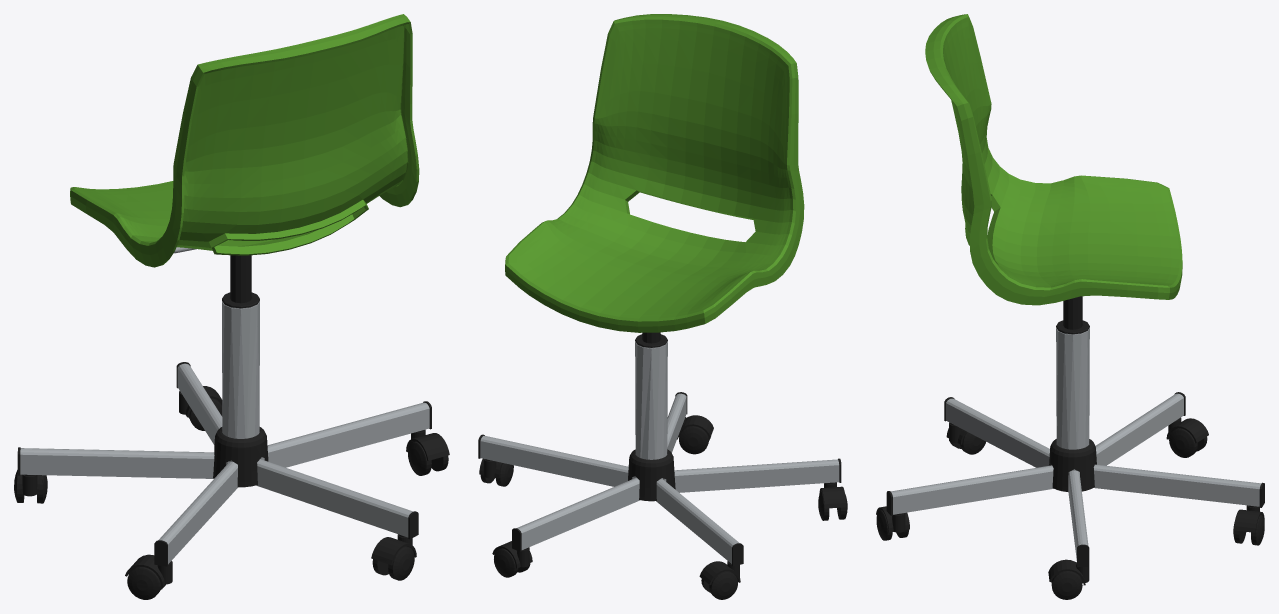
3 renders of one model, left to right at view 1: azimuth 30°, elevation 25°; view 2: azimuth 150°, elevation 25°; view 3: azimuth 270°, elevation 25°, orthographic. The views are drawn at different scales.
Parts seen in each view (by area): view 1: Mesh2 Group2 SNILLE_IKEA1 Model, Mesh8 Group6 SNILLE_IKEA1 Model, Mesh7 Group5 SNILLE_IKEA1 Model, Mesh1 Group1 SNILLE_IKEA1 Model, Mesh3 Group3 SNILLE_IKEA1 Model, Mesh20 ROULETTE4 SNILLE_IKEA1 Model, Mesh12 ROULETTE2 SNILLE_IKEA1 Model, Mesh15 ROULETTE3 SNILLE_IKEA1 Model, Mesh14 ROULETTE2 SNILLE_IKEA1 Model, Mesh18 ROULETTE4 SNILLE_IKEA1 Model, Mesh16 ROULETTE3 SNILLE_IKEA1 Model; view 2: Mesh2 Group2 SNILLE_IKEA1 Model, Mesh8 Group6 SNILLE_IKEA1 Model, Mesh7 Group5 SNILLE_IKEA1 Model, Mesh1 Group1 SNILLE_IKEA1 Model, Mesh13 ROULETTE2 SNILLE_IKEA1 Model, Mesh11 ROULETTE1 SNILLE_IKEA1 Model, Mesh18 ROULETTE4 SNILLE_IKEA1 Model, Mesh9 ROULETTE1 SNILLE_IKEA1 Model, Mesh23 ROULETTE5 SNILLE_IKEA1 Model; view 3: Mesh2 Group2 SNILLE_IKEA1 Model, Mesh8 Group6 SNILLE_IKEA1 Model, Mesh7 Group5 SNILLE_IKEA1 Model, Mesh1 Group1 SNILLE_IKEA1 Model, Mesh3 Group3 SNILLE_IKEA1 Model, Mesh17 ROULETTE3 SNILLE_IKEA1 Model, Mesh10 ROULETTE1 SNILLE_IKEA1 Model, Mesh21 ROULETTE5 SNILLE_IKEA1 Model, Mesh9 ROULETTE1 SNILLE_IKEA1 Model, Mesh15 ROULETTE3 SNILLE_IKEA1 Model.
Part boxes in pixels (box(x1,y1,x2,y2)): Mesh2 Group2 SNILLE_IKEA1 Model: box(70, 14, 419, 267); Mesh8 Group6 SNILLE_IKEA1 Model: box(17, 362, 431, 566); Mesh7 Group5 SNILLE_IKEA1 Model: box(222, 301, 259, 438); Mesh1 Group1 SNILLE_IKEA1 Model: box(213, 427, 268, 487); Mesh3 Group3 SNILLE_IKEA1 Model: box(222, 255, 259, 308); Mesh20 ROULETTE4 SNILLE_IKEA1 Model: box(127, 566, 161, 599); Mesh12 ROULETTE2 SNILLE_IKEA1 Model: box(371, 534, 416, 565); Mesh15 ROULETTE3 SNILLE_IKEA1 Model: box(406, 429, 449, 460); Mesh14 ROULETTE2 SNILLE_IKEA1 Model: box(388, 546, 414, 580); Mesh18 ROULETTE4 SNILLE_IKEA1 Model: box(125, 554, 172, 586); Mesh16 ROULETTE3 SNILLE_IKEA1 Model: box(408, 441, 431, 475); Mesh2 Group2 SNILLE_IKEA1 Model: box(505, 14, 804, 332); Mesh8 Group6 SNILLE_IKEA1 Model: box(478, 392, 841, 566); Mesh7 Group5 SNILLE_IKEA1 Model: box(635, 341, 667, 459); Mesh1 Group1 SNILLE_IKEA1 Model: box(628, 449, 675, 501); Mesh13 ROULETTE2 SNILLE_IKEA1 Model: box(679, 426, 708, 454); Mesh11 ROULETTE1 SNILLE_IKEA1 Model: box(709, 571, 737, 599); Mesh18 ROULETTE4 SNILLE_IKEA1 Model: box(819, 482, 846, 508); Mesh9 ROULETTE1 SNILLE_IKEA1 Model: box(699, 561, 740, 584); Mesh23 ROULETTE5 SNILLE_IKEA1 Model: box(494, 548, 518, 577); Mesh2 Group2 SNILLE_IKEA1 Model: box(925, 14, 1182, 305); Mesh8 Group6 SNILLE_IKEA1 Model: box(886, 392, 1264, 567); Mesh7 Group5 SNILLE_IKEA1 Model: box(1056, 328, 1089, 449); Mesh1 Group1 SNILLE_IKEA1 Model: box(1049, 439, 1096, 491); Mesh3 Group3 SNILLE_IKEA1 Model: box(1056, 296, 1089, 334); Mesh17 ROULETTE3 SNILLE_IKEA1 Model: box(1051, 571, 1082, 599); Mesh10 ROULETTE1 SNILLE_IKEA1 Model: box(1169, 428, 1197, 457); Mesh21 ROULETTE5 SNILLE_IKEA1 Model: box(1233, 505, 1264, 532); Mesh9 ROULETTE1 SNILLE_IKEA1 Model: box(1166, 417, 1208, 443); Mesh15 ROULETTE3 SNILLE_IKEA1 Model: box(1048, 559, 1089, 585).
Size of the model in its own units: 0.579 by 0.7914 by 0.597.
